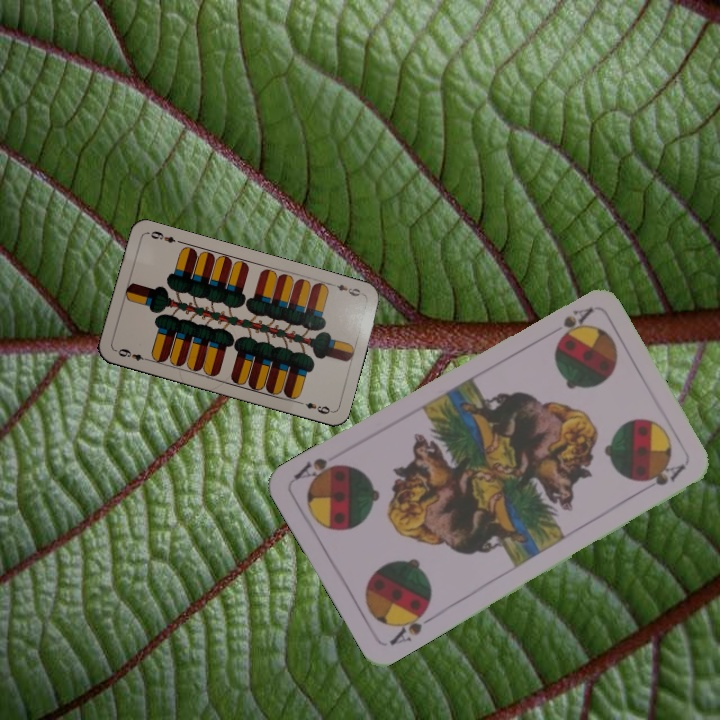E9: (112, 344, 152, 364), (327, 279, 366, 299)
SA: (385, 602, 438, 649), (555, 303, 595, 341)
